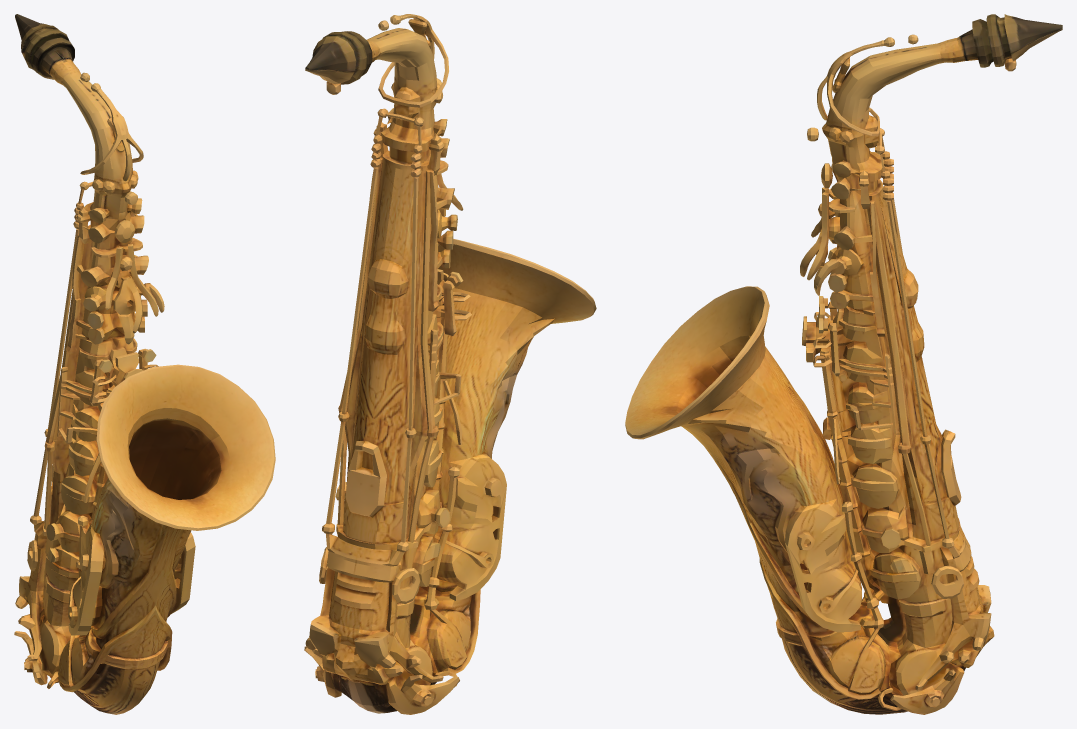
Rendered from saxophone.glb.
3 views of the same model, side by side, from view 1: azimuth 30°, elevation 25°; view 2: azimuth 150°, elevation 25°; view 3: azimuth 270°, elevation 25° (orthographic). The views are drawn at different scales.
Visible parts, largest first — view 1: model; view 2: model; view 3: model.
Part boxes in pixels (bbox=[...]): model: bbox=[14, 14, 275, 714]; model: bbox=[304, 14, 596, 714]; model: bbox=[625, 14, 1062, 714].
Bounding box in the file's own units: 0.5146 × 1.9 × 1.08.
Materials: 1 (1 with a texture image).
